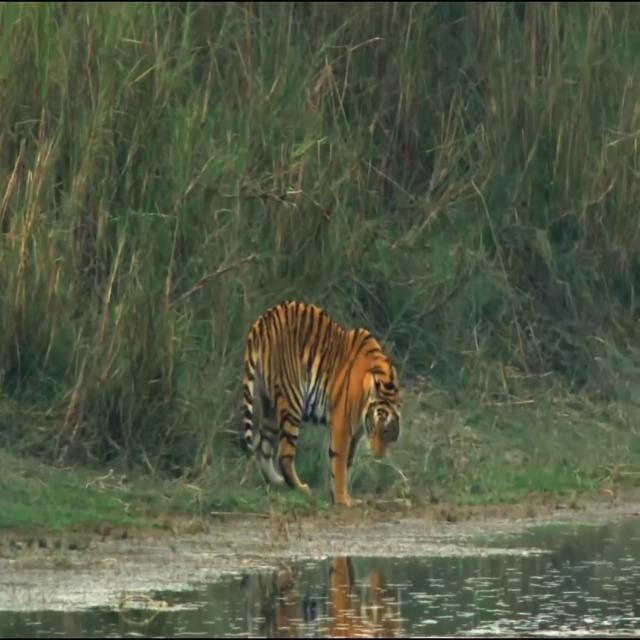tiger: (243, 300, 403, 507)
